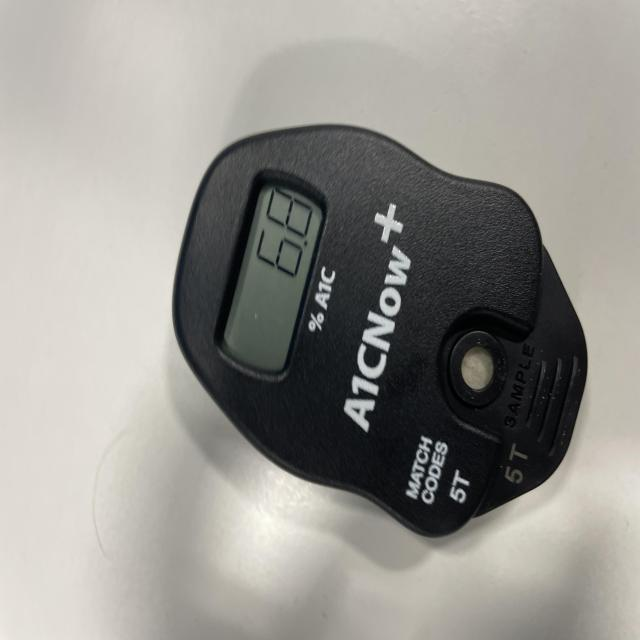hba1c: (171, 125, 589, 542)
